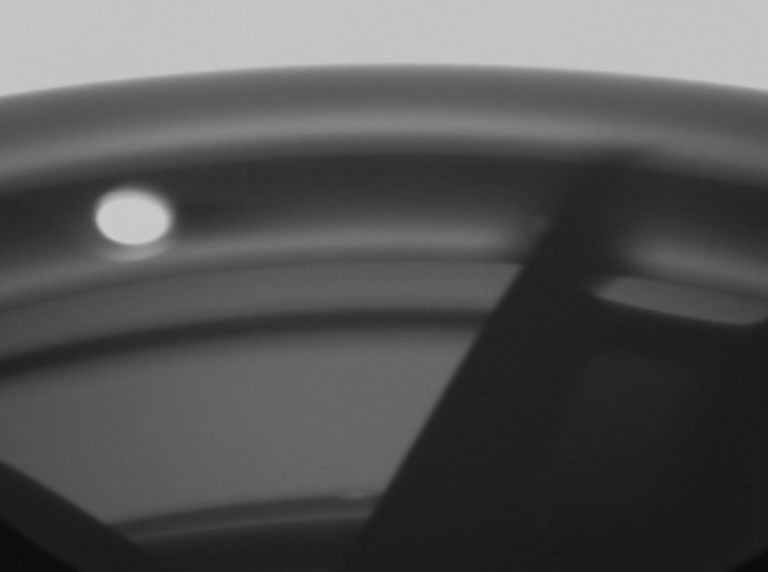defect: (510, 201, 564, 246)
